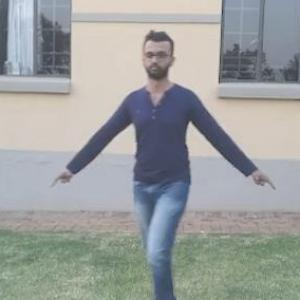land: (77, 42, 247, 294)
